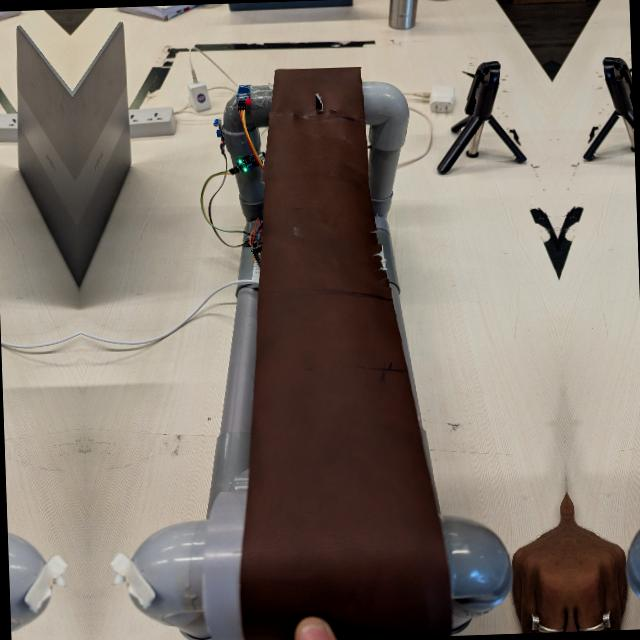edge_damage: (359, 206, 403, 296)
joint_damage: (299, 88, 339, 117)
